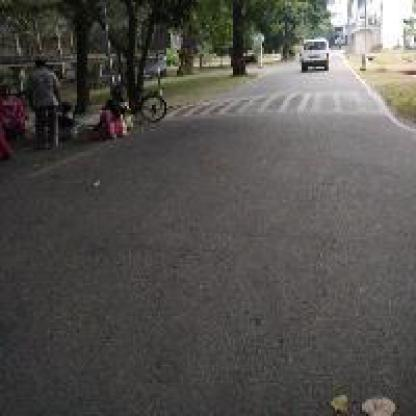Speed Bump: (173, 90, 372, 118)
